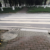zebra: (1, 13, 50, 23)
